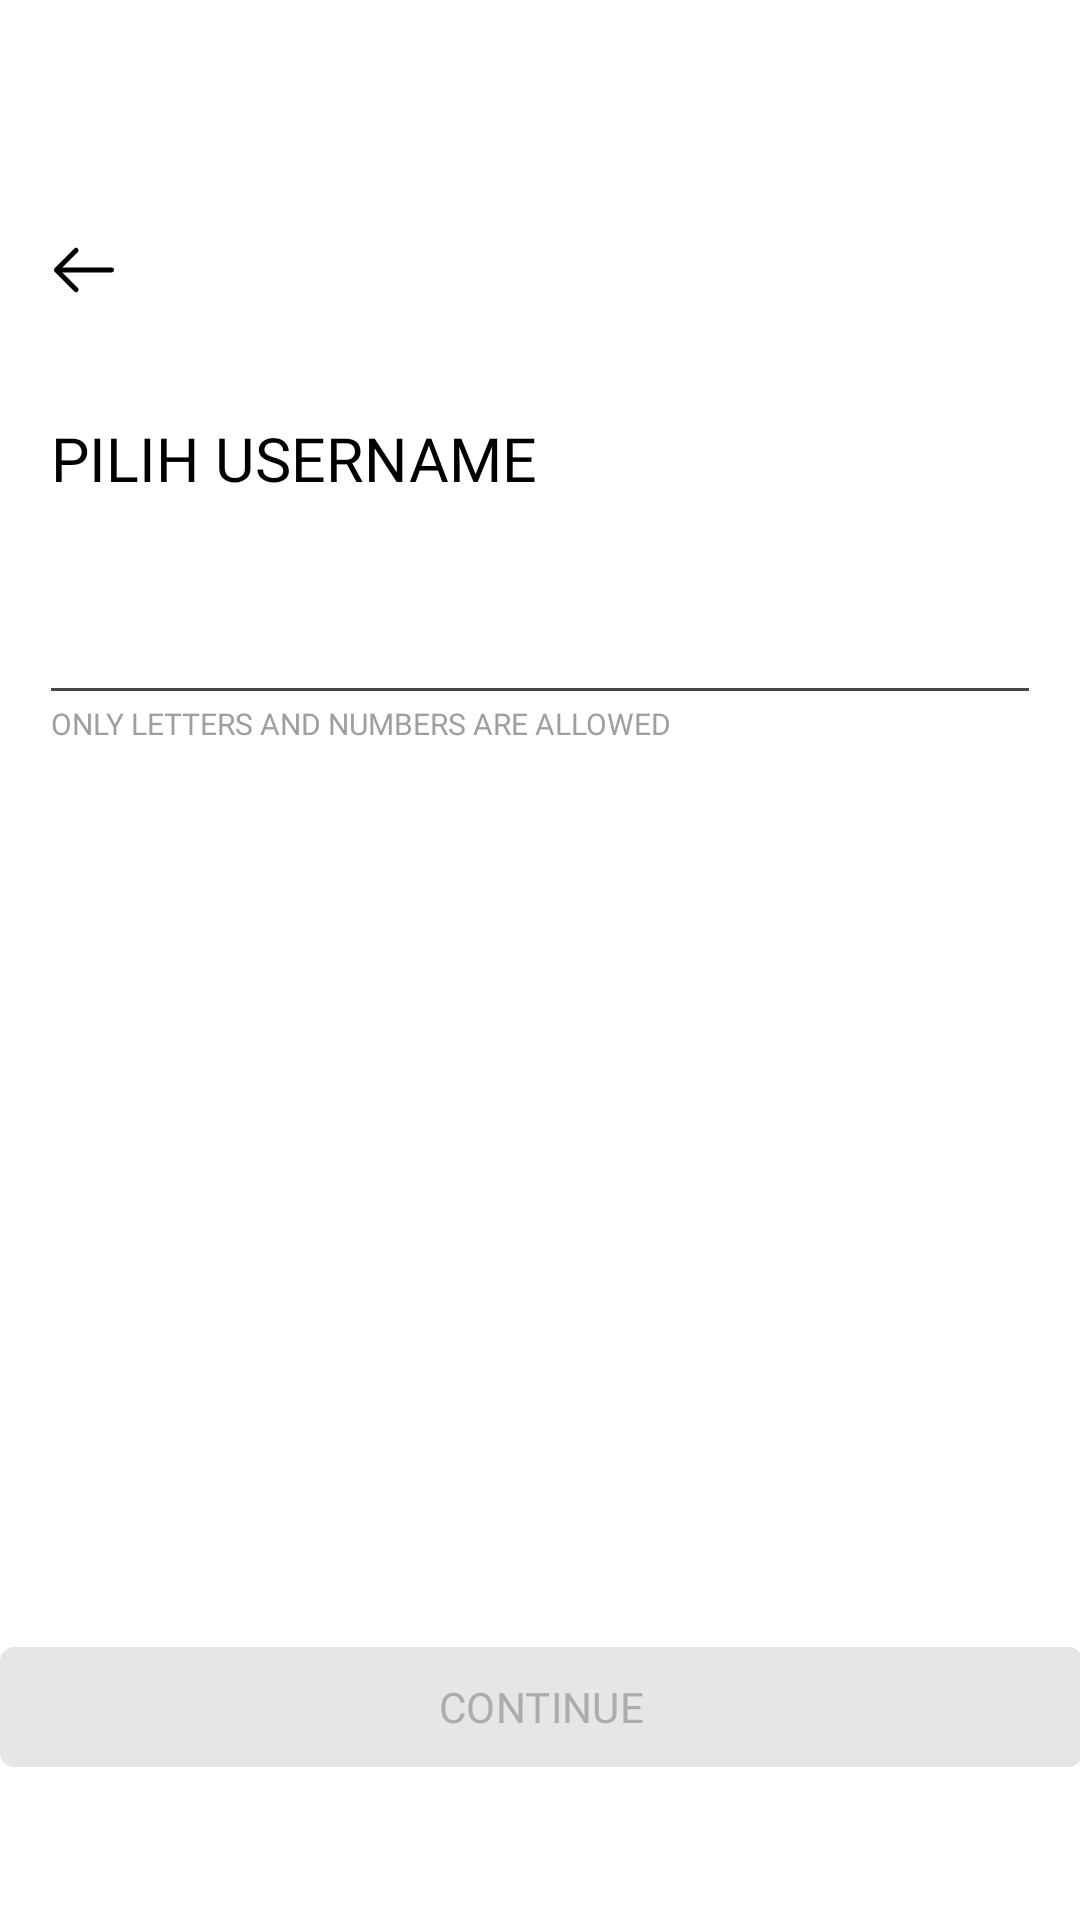

Icon bounding boxes for this 1080 × 1920 phone screenshot, format box=[x1, y1, x2, y2]:
Back: box=[54, 247, 114, 293]
